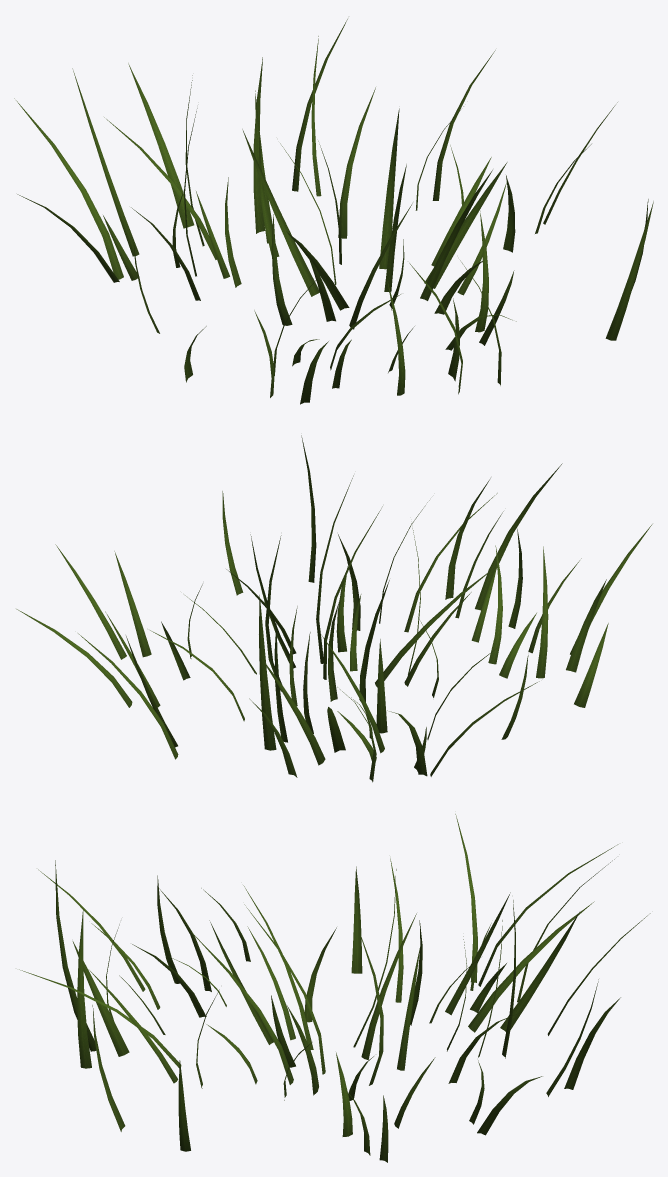
The model's file is grass_short_lod1.gltf.
3 renders of one model, top to bottom at view 1: azimuth 30°, elevation 25°; view 2: azimuth 150°, elevation 25°; view 3: azimuth 270°, elevation 25°, orthographic. The views are drawn at different scales.
Parts seen in each view (by area): view 1: grass_short_lod1; view 2: grass_short_lod1; view 3: grass_short_lod1.
Boxes of the visible parts, x1,y1,x2,y2 form: grass_short_lod1: (14,19,653,404); grass_short_lod1: (16,435,652,782); grass_short_lod1: (19,814,650,1162).
Bounding box in the file's own units: 0.9413 × 0.2775 × 0.9545.
1 material, 1 textured.
